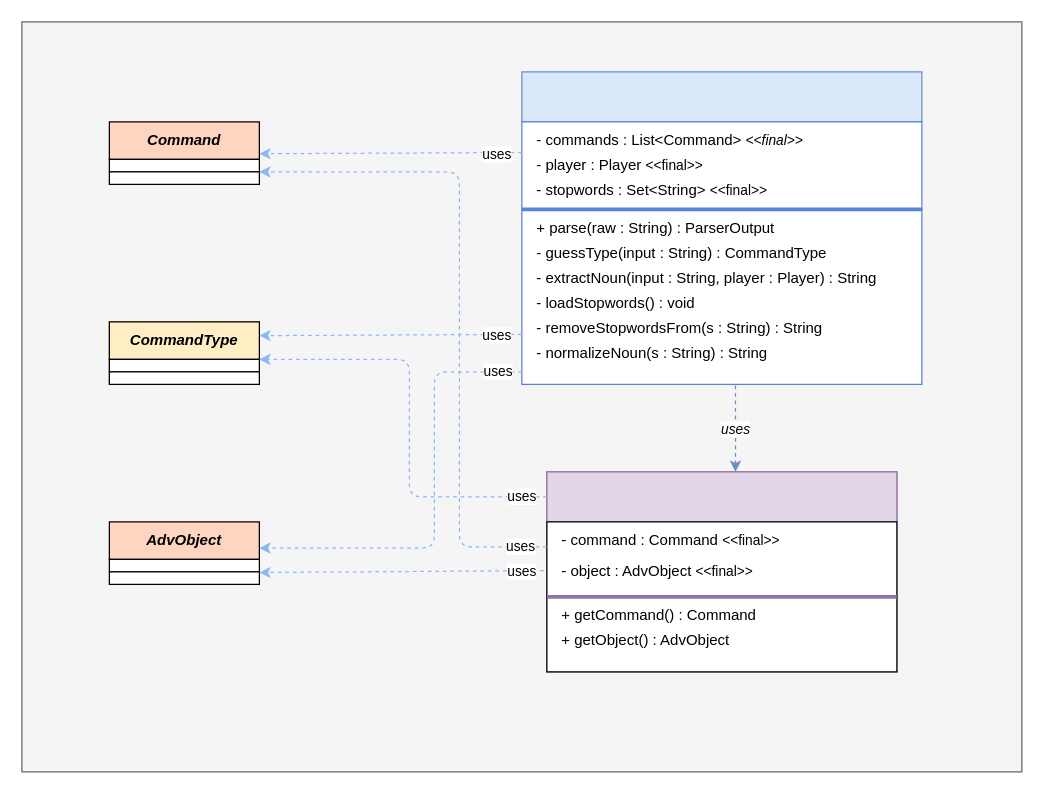
Image size: 1044x794. Some labels were removed from this diagram. Each missing label, with the centre of its shape:
"Parser" goes at point 721,96.
"ParserOutput" goes at point 721,496.
